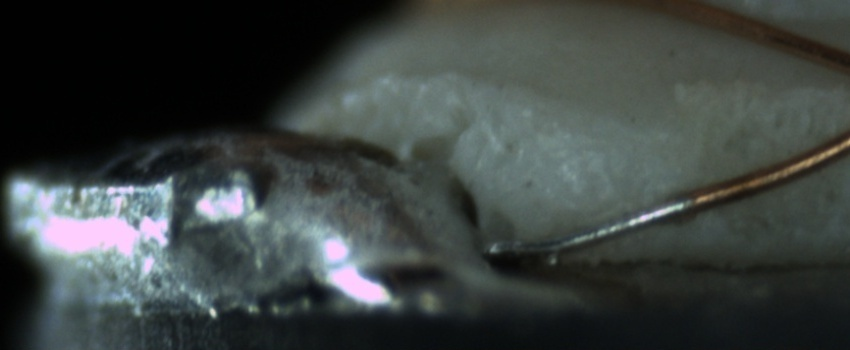TS: (478, 195, 691, 258)
